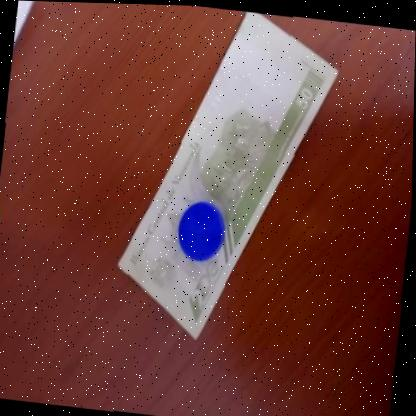fifty-back-vef: (110, 3, 345, 353)
